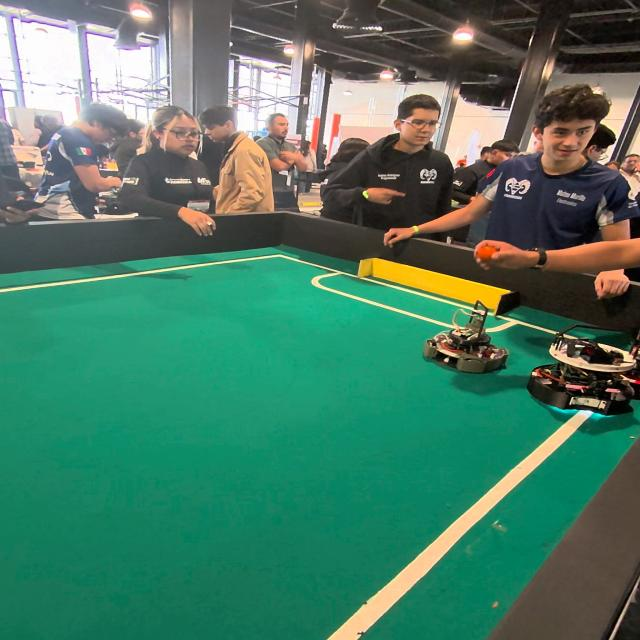Robot: (529, 272, 637, 425), (420, 301, 507, 378)
